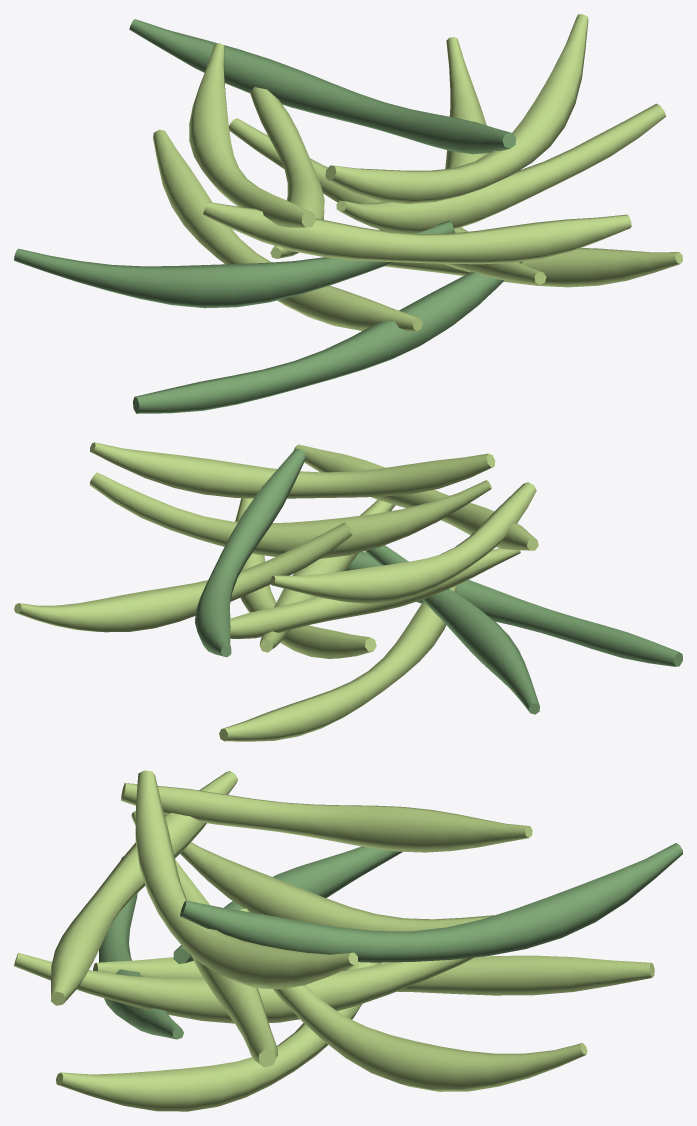
File: beans.glb
The picture shows the model from 3 angles, top to bottom: view 1: azimuth 30°, elevation 25°; view 2: azimuth 150°, elevation 25°; view 3: azimuth 270°, elevation 25°; orthographic projection. The views are drawn at different scales.
Visible parts, largest first — view 1: green-beans-handful; view 2: green-beans-handful; view 3: green-beans-handful.
Boxes of the visible parts, x1,y1,x2,y2 form: green-beans-handful: [14, 14, 682, 413]; green-beans-handful: [14, 442, 682, 741]; green-beans-handful: [14, 770, 682, 1111].
Bounding box in the file's own units: 0.1547 × 0.0501 × 0.1403.
